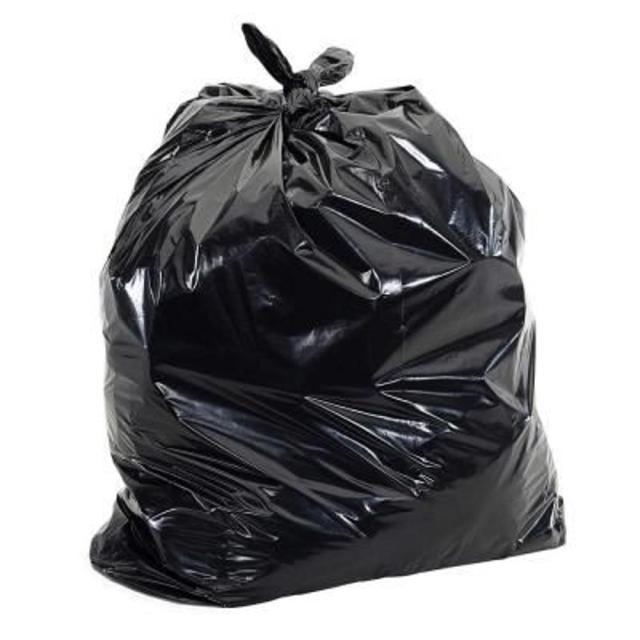KantongPlastik: (88, 21, 567, 608)
